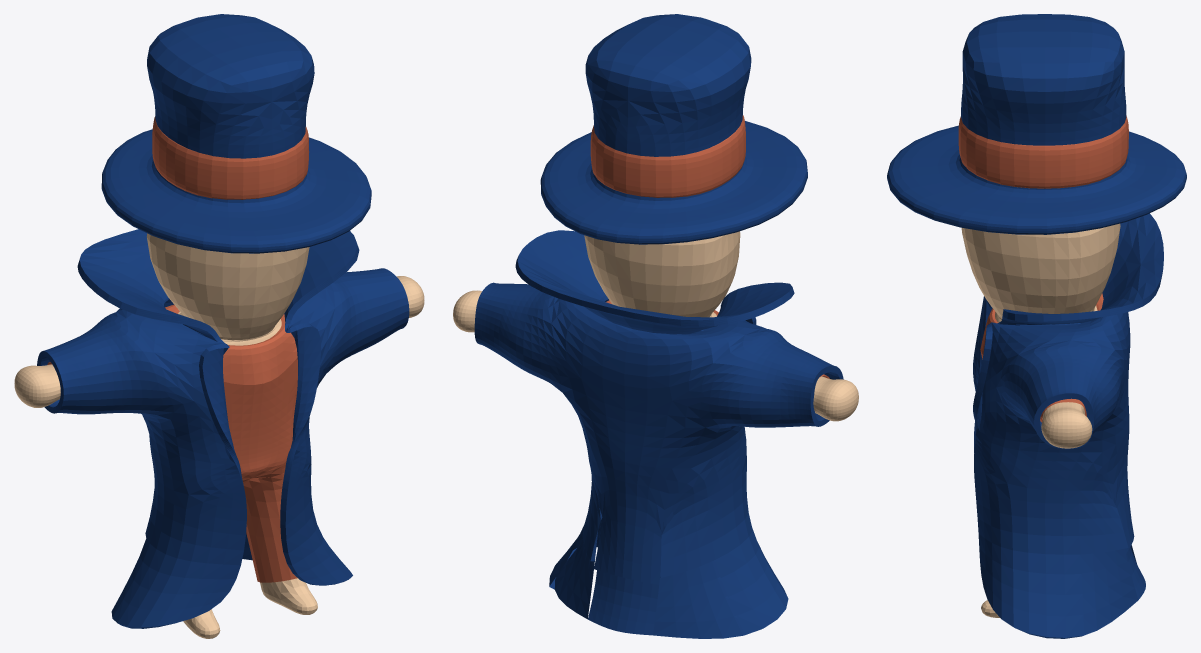
File: magician.fbx
3 renders of one model, left to right at view 1: azimuth 30°, elevation 25°; view 2: azimuth 150°, elevation 25°; view 3: azimuth 270°, elevation 25°, orthographic.
Parts seen in each view (by area): view 1: cape, Layer 01, Object_3; view 2: cape, Object_3, Layer 01; view 3: cape, Object_3, Layer 01.
Part boxes in pixels (x1,y1,x2,y2): cape: (37, 14, 409, 628); Layer 01: (47, 116, 309, 582); Object_3: (14, 233, 424, 638); cape: (474, 14, 843, 638); Object_3: (453, 231, 858, 421); Layer 01: (590, 115, 829, 378); cape: (887, 14, 1186, 638); Object_3: (961, 223, 1120, 618); Layer 01: (958, 115, 1128, 422).
Bounding box in the file's own units: 654 × 431 × 891.
